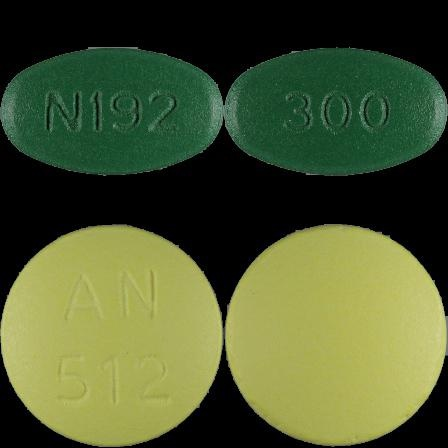68151-1742: (0, 0, 224, 224)
